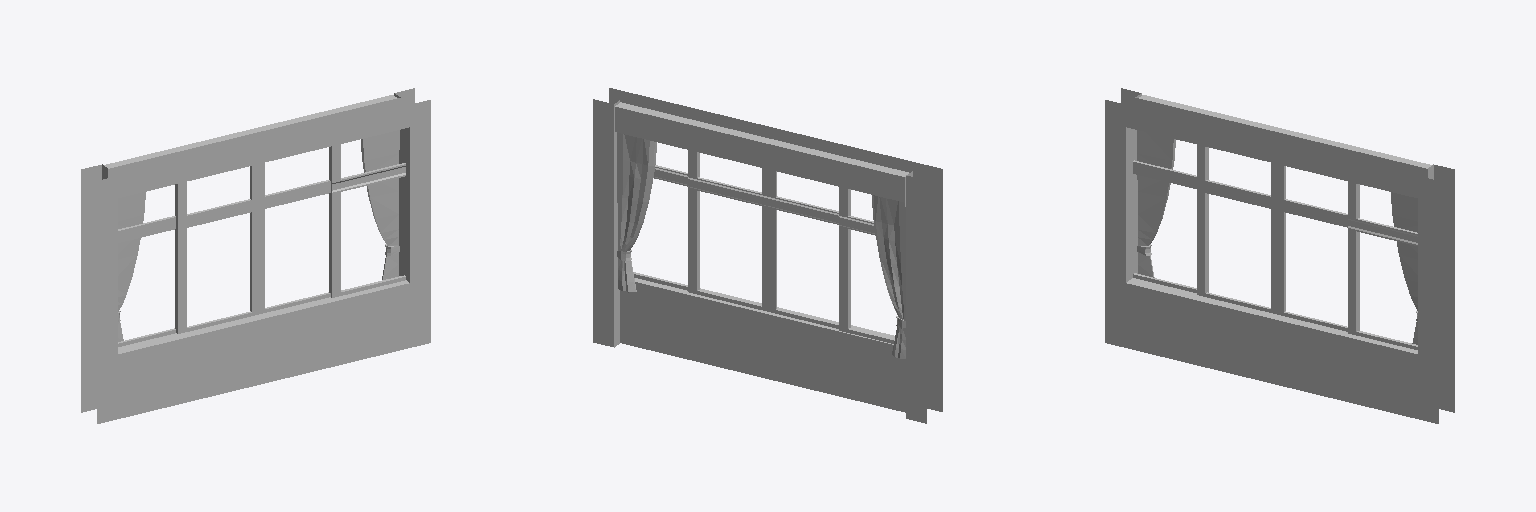
File: wall.obj
3 renders of one model, left to right at view 1: azimuth 30°, elevation 25°; view 2: azimuth 150°, elevation 25°; view 3: azimuth 330°, elevation 25°, orthographic.
Visible parts, largest first — view 1: color4_jalousie; view 2: color4_jalousie; view 3: color4_jalousie.
Part boxes in pixels (left/top/right/bottom): color4_jalousie: left=81, top=88, right=430, bottom=423; color4_jalousie: left=593, top=88, right=942, bottom=423; color4_jalousie: left=1105, top=88, right=1454, bottom=423.
Size of the model in its own units: 2.79 by 1.94 by 0.2356.